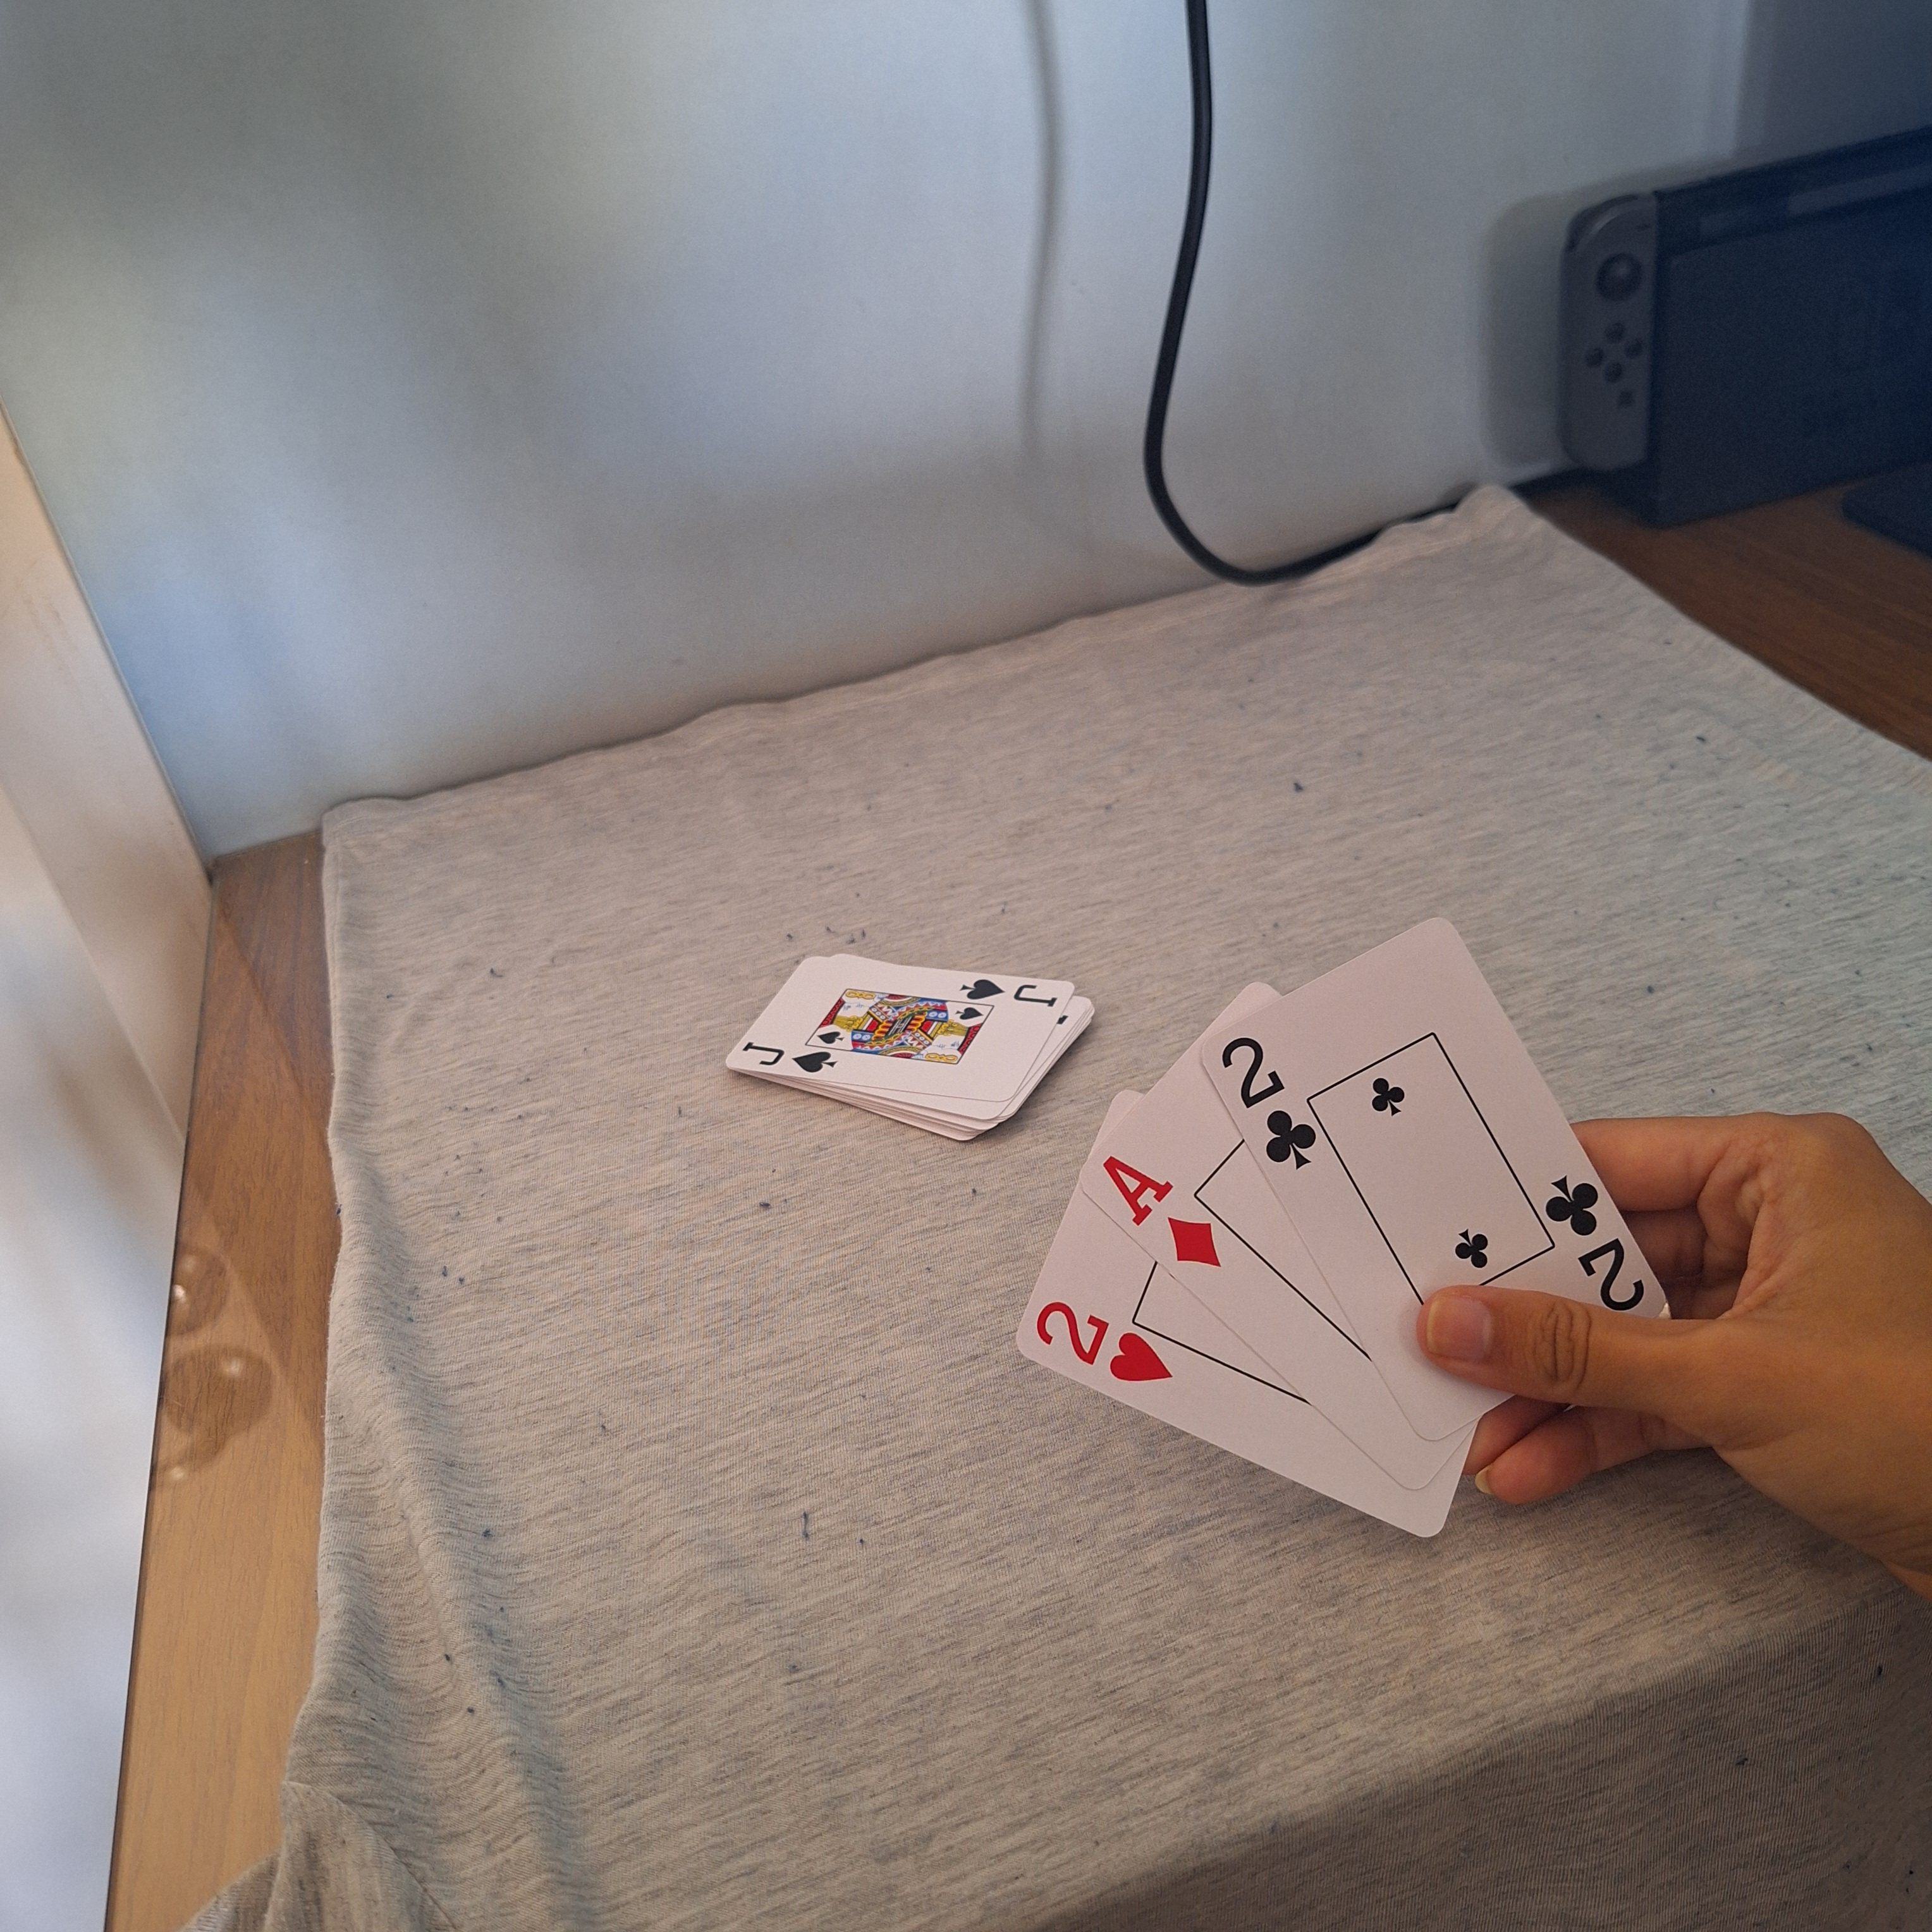2C: (1031, 1299, 1180, 1389)
2P: (1539, 1171, 1649, 1313), (1215, 1031, 1323, 1175)
AO: (1095, 1150, 1230, 1272)
JE: (738, 1035, 840, 1076), (957, 977, 1065, 1012)
